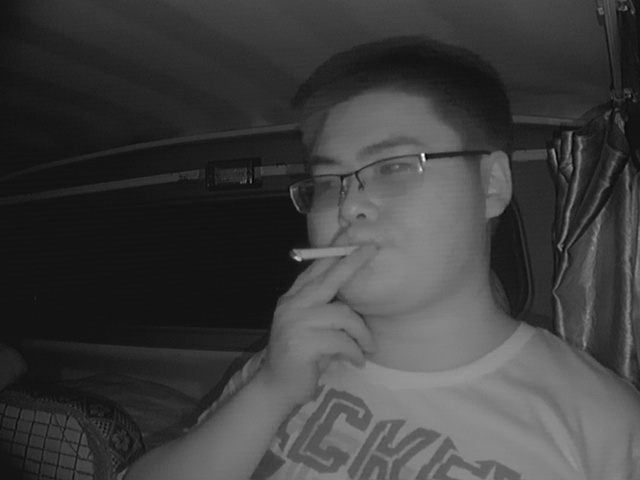hand: (269, 228, 394, 394)
